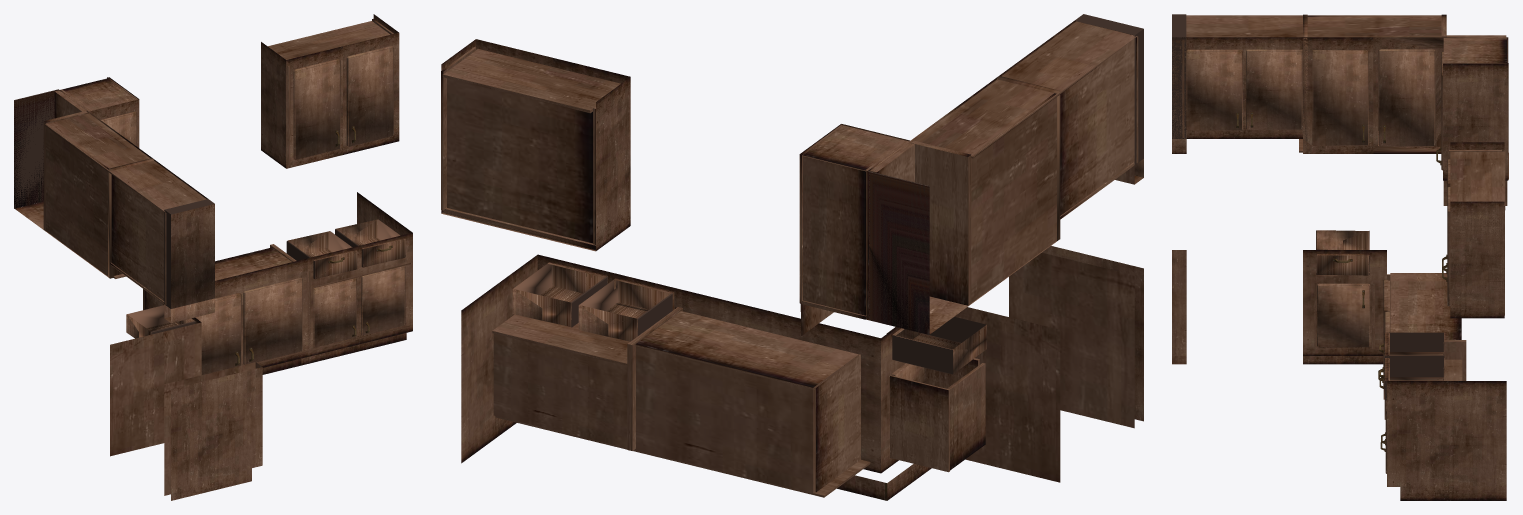
File: ArmarioCozinha.fbx
3 renders of one model, left to right at view 1: azimuth 30°, elevation 25°; view 2: azimuth 150°, elevation 25°; view 3: azimuth 270°, elevation 25°, orthographic. The views are drawn at different scales.
Visible parts, largest first — view 1: Cozinha_Moveis, PORTA_E_2, PORTA_D_1, PORTA_D_2, PORTA_E_1, PORTA_F_2, PORTA_F_1, Cozinha_GAVETA2.001, Cozinha_GAVETA3.001, Cozinha_GAVETA1.001, PORTA_C; view 2: Cozinha_Moveis, Cozinha_GAVETA2.001, Cozinha_GAVETA3.001, Cozinha_GAVETA1.001; view 3: Cozinha_Moveis, PORTA_B_2, PORTA_B_1, PORTA_A_1, PORTA_A_2, PORTA_E, Cozinha_GAVETA1.001, Cozinha_GAVETA2.001, Cozinha_GAVETA3.001, PORTA_D_2.
Boxes of the visible parts, bbox=[...] form: Cozinha_Moveis: bbox=[14, 14, 412, 500]; PORTA_E_2: bbox=[243, 277, 302, 364]; PORTA_D_1: bbox=[293, 59, 340, 159]; PORTA_D_2: bbox=[346, 46, 393, 146]; PORTA_E_1: bbox=[196, 293, 241, 374]; PORTA_F_2: bbox=[361, 266, 405, 335]; PORTA_F_1: bbox=[313, 278, 356, 347]; Cozinha_GAVETA2.001: bbox=[286, 231, 357, 279]; Cozinha_GAVETA3.001: bbox=[335, 219, 405, 267]; Cozinha_GAVETA1.001: bbox=[126, 305, 198, 338]; PORTA_C: bbox=[101, 111, 136, 146]; Cozinha_Moveis: bbox=[441, 14, 1143, 500]; Cozinha_GAVETA2.001: bbox=[578, 278, 673, 341]; Cozinha_GAVETA3.001: bbox=[512, 262, 607, 327]; Cozinha_GAVETA1.001: bbox=[886, 316, 986, 374]; Cozinha_Moveis: bbox=[1172, 14, 1508, 500]; PORTA_B_2: bbox=[1378, 49, 1435, 146]; PORTA_B_1: bbox=[1312, 50, 1368, 145]; PORTA_A_1: bbox=[1186, 49, 1242, 130]; PORTA_A_2: bbox=[1246, 49, 1302, 129]; PORTA_E: bbox=[1317, 283, 1370, 347]; Cozinha_GAVETA1.001: bbox=[1316, 230, 1369, 275]; Cozinha_GAVETA2.001: bbox=[1379, 332, 1444, 374]; Cozinha_GAVETA3.001: bbox=[1379, 358, 1444, 400]; PORTA_D_2: bbox=[1442, 187, 1450, 306].
Bounding box in the file's own units: 31592 × 24140 × 23952.
